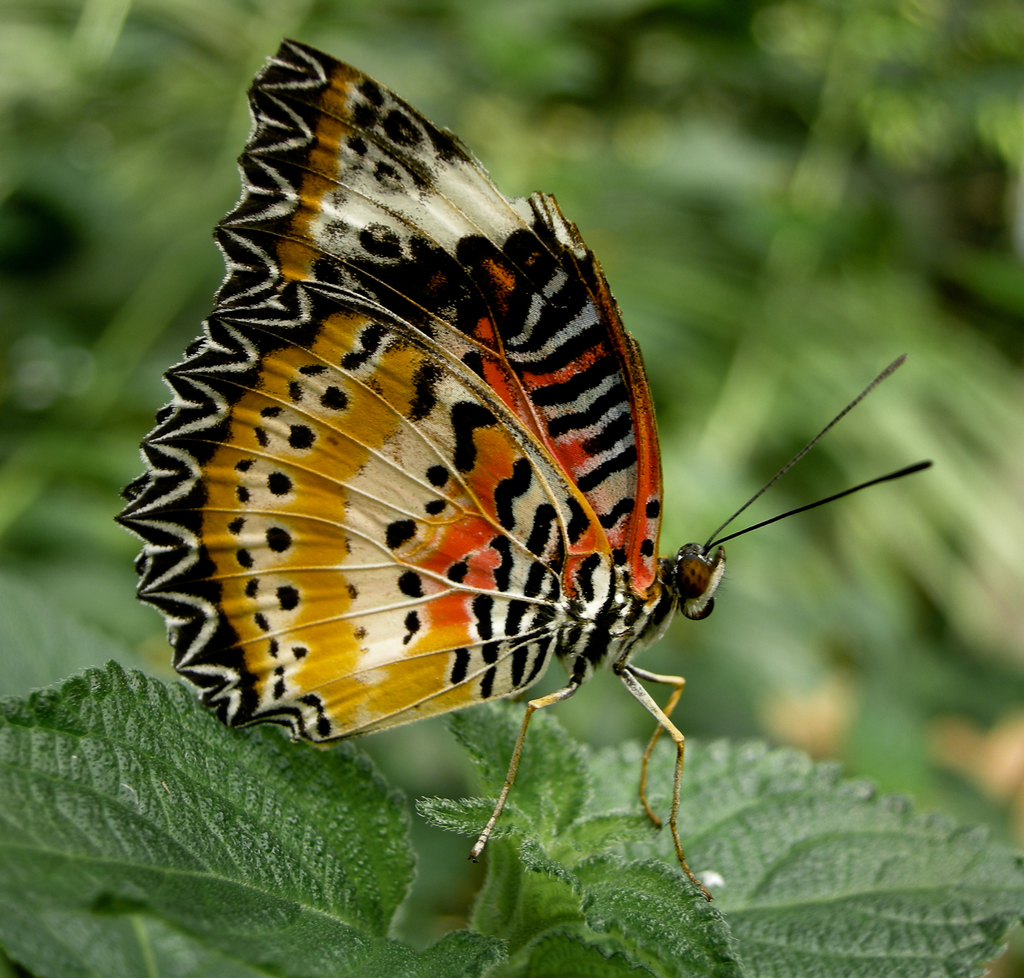Butterfly: (117, 35, 810, 879)
